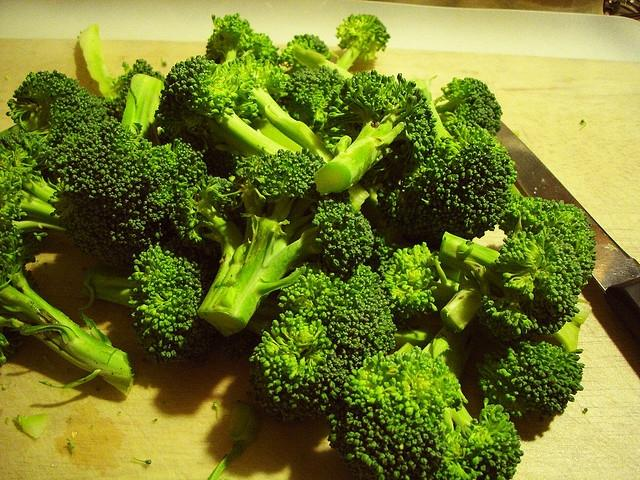broccoli: (182, 147, 374, 336), (42, 74, 208, 267), (248, 264, 398, 425), (0, 217, 134, 395), (75, 238, 219, 366), (438, 225, 584, 342), (377, 121, 518, 239), (314, 70, 437, 197), (498, 194, 597, 289), (476, 341, 584, 419), (434, 397, 524, 480), (376, 242, 459, 319), (280, 64, 346, 133), (0, 128, 57, 204), (204, 11, 280, 66), (433, 77, 503, 136), (336, 14, 389, 72), (440, 270, 480, 334), (276, 33, 332, 73), (234, 98, 260, 125)
